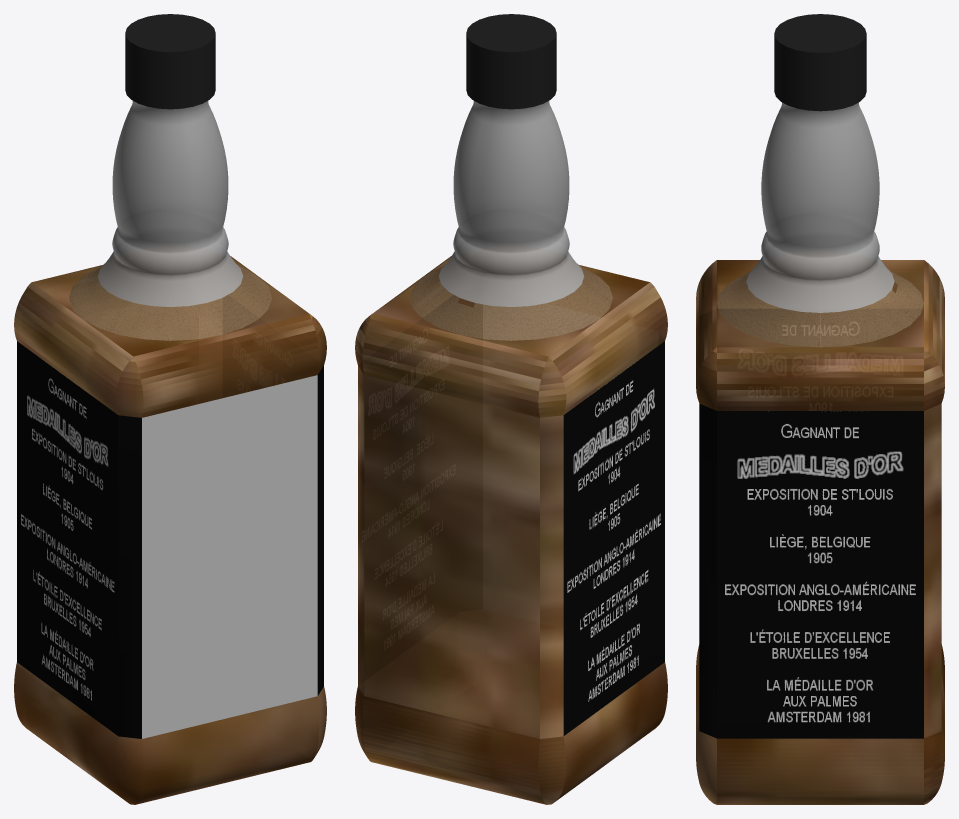
Rendered from whisky.dae.
The picture shows the model from 3 angles, left to right: view 1: azimuth 30°, elevation 25°; view 2: azimuth 150°, elevation 25°; view 3: azimuth 270°, elevation 25°; orthographic projection. The views are drawn at different scales.
Parts seen in each view (by area): view 1: skp450D (×9); view 2: skp450D (×9); view 3: skp450D (×7).
Part boxes in pixels (<box>): skp450D (×9): <box>14,14,326,804</box>; skp450D (×9): <box>355,14,667,804</box>; skp450D (×7): <box>696,14,944,804</box>.
Bounding box in the file's own units: 3.57 × 3.57 × 11.5.
